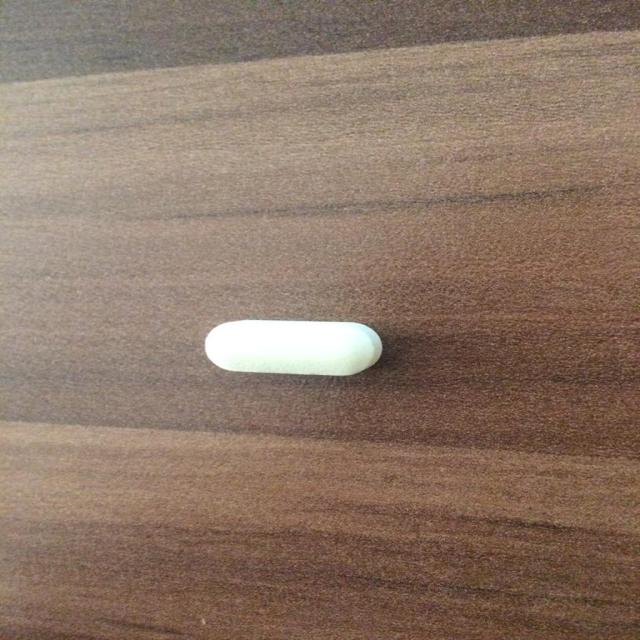pills: (184, 309, 392, 386)
